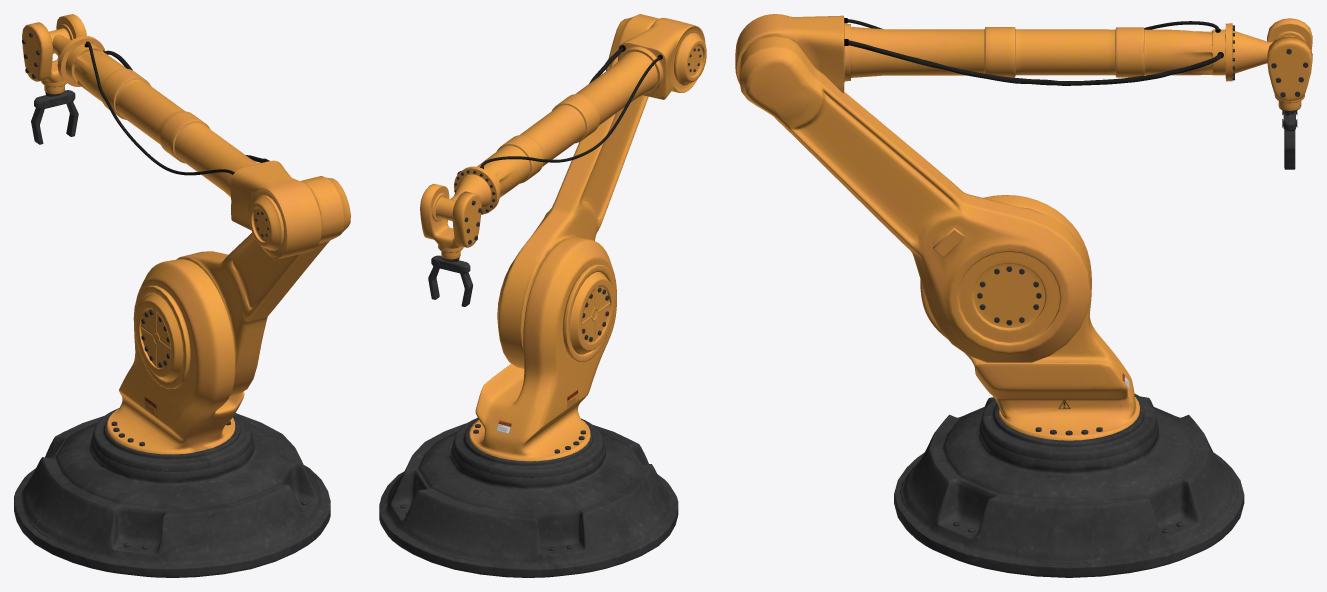
The model's file is industrial-robot-arm.glb.
The picture shows the model from 3 angles, left to right: view 1: azimuth 30°, elevation 25°; view 2: azimuth 150°, elevation 25°; view 3: azimuth 270°, elevation 25°; orthographic projection. The views are drawn at different scales.
Parts seen in each view (by area): view 1: robot arm base, Cube.002, Robot arm 2, robot arm large, robot arm end, Cylinder.002; view 2: robot arm base, Cube.002, robot arm large, Robot arm 2, robot arm end, Cylinder.002; view 3: robot arm base, robot arm large, Robot arm 2, Cube.002, robot arm end.
Boxes of the visible parts, x1,y1,x2,y2 form: robot arm base: (14, 414, 330, 577); Cube.002: (92, 259, 252, 471); Robot arm 2: (52, 34, 321, 259); robot arm large: (133, 176, 350, 396); robot arm end: (22, 14, 86, 94); Cylinder.002: (34, 90, 75, 109); robot arm base: (379, 423, 678, 577); Cube.002: (453, 237, 616, 477); robot arm large: (497, 14, 706, 368); Robot arm 2: (451, 18, 705, 214); robot arm end: (420, 183, 481, 259); Cylinder.002: (431, 255, 470, 273); robot arm base: (894, 396, 1244, 577); robot arm large: (739, 36, 1090, 362); Robot arm 2: (735, 14, 1272, 93); Cube.002: (920, 195, 1157, 460); robot arm end: (1267, 18, 1312, 110).
Size of the model in its own units: 1.19 by 1.78 by 1.97.
Materials: 1 (1 with a texture image).
